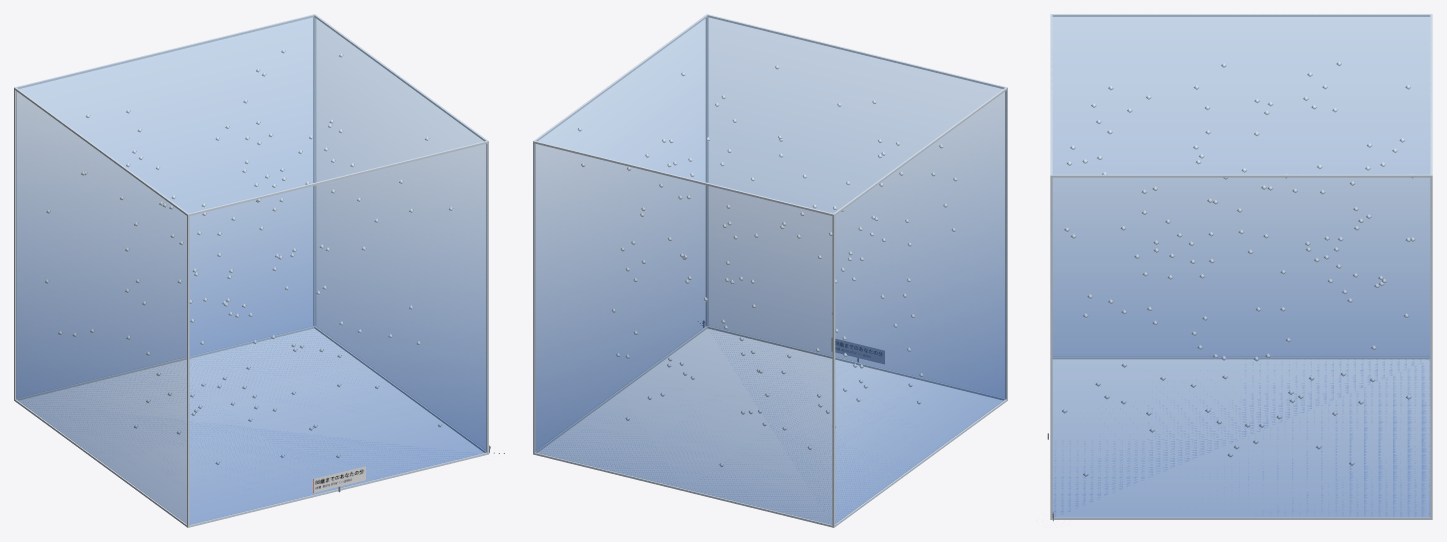
Rendered from cube_life_89.glb.
3 views of the same model, side by side, from view 1: azimuth 30°, elevation 25°; view 2: azimuth 150°, elevation 25°; view 3: azimuth 270°, elevation 25° (orthographic). The views are drawn at different scales.
Parts seen in each view (by area): view 1: co2, edge, dots, label; view 2: co2, edge, dots, label; view 3: co2, edge, dots.
Part boxes in pixels (x1,y1,x2,y2): co2: (16,15,486,524); edge: (14,14,488,527); dots: (45,49,453,464); label: (313,466,365,492); co2: (535,15,1005,524); edge: (533,14,1007,527); dots: (577,65,957,467); label: (835,339,884,364); co2: (1051,15,1430,517); edge: (1050,14,1432,519); dots: (1062,61,1415,476).
Bounding box in the file's own units: 71.45 × 67.68 × 70.55.
8 materials, 3 textured.
